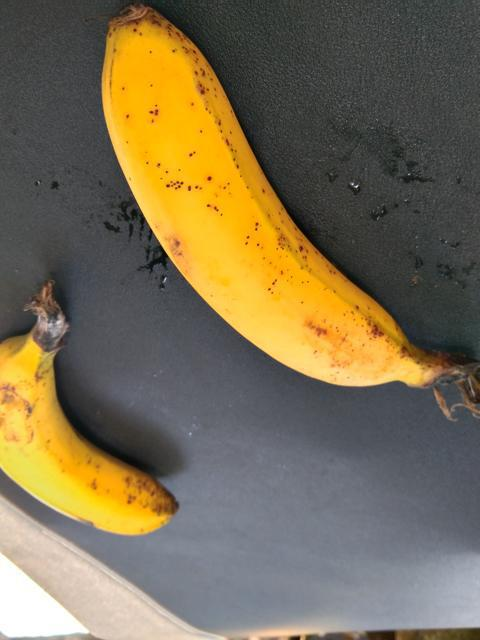ripe: (94, 13, 445, 425), (0, 309, 187, 533)
